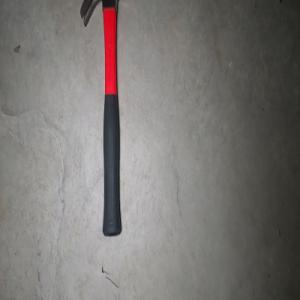Hammer: (79, 0, 140, 238)
